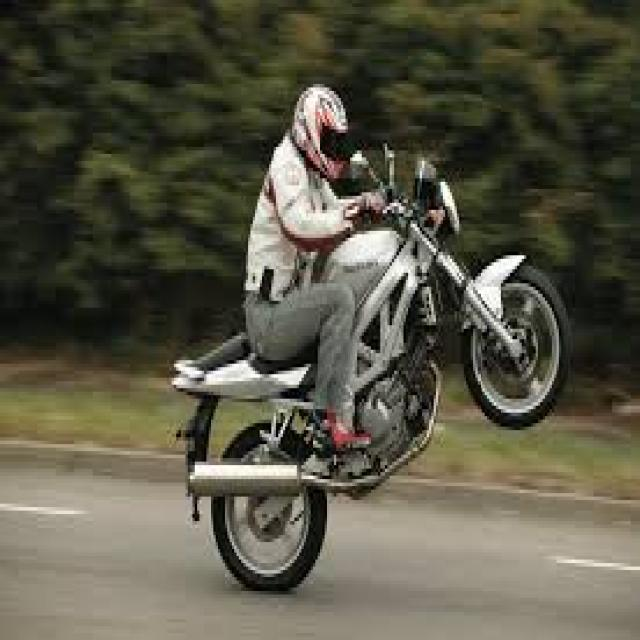Wheeling: (157, 71, 586, 594)
